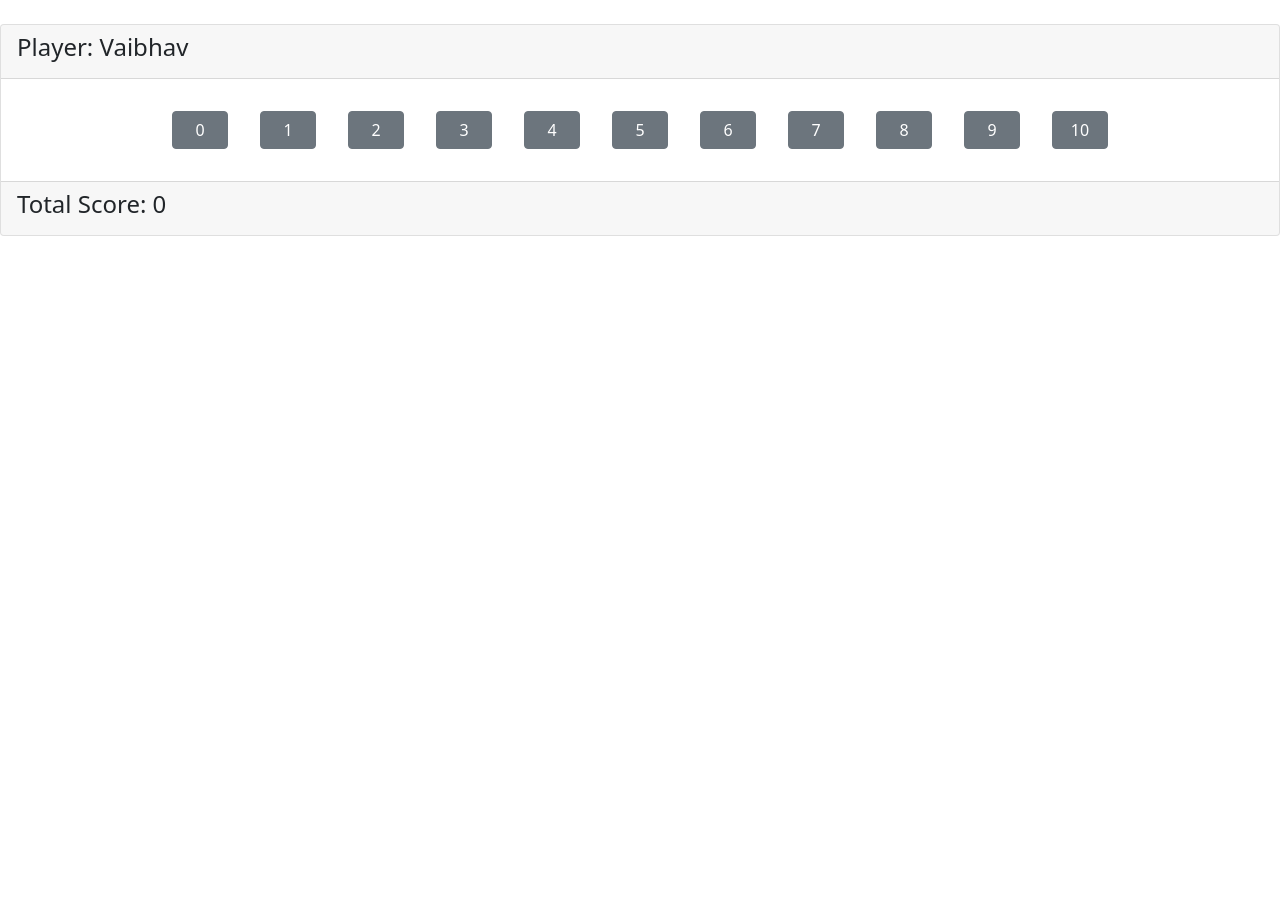
Test: GameCard › should NOT show the button 7 if 8 was pressed on first click
Click the button with test id "Vaibhav8" at coordinates (904, 130), box [876, 111, 932, 149]
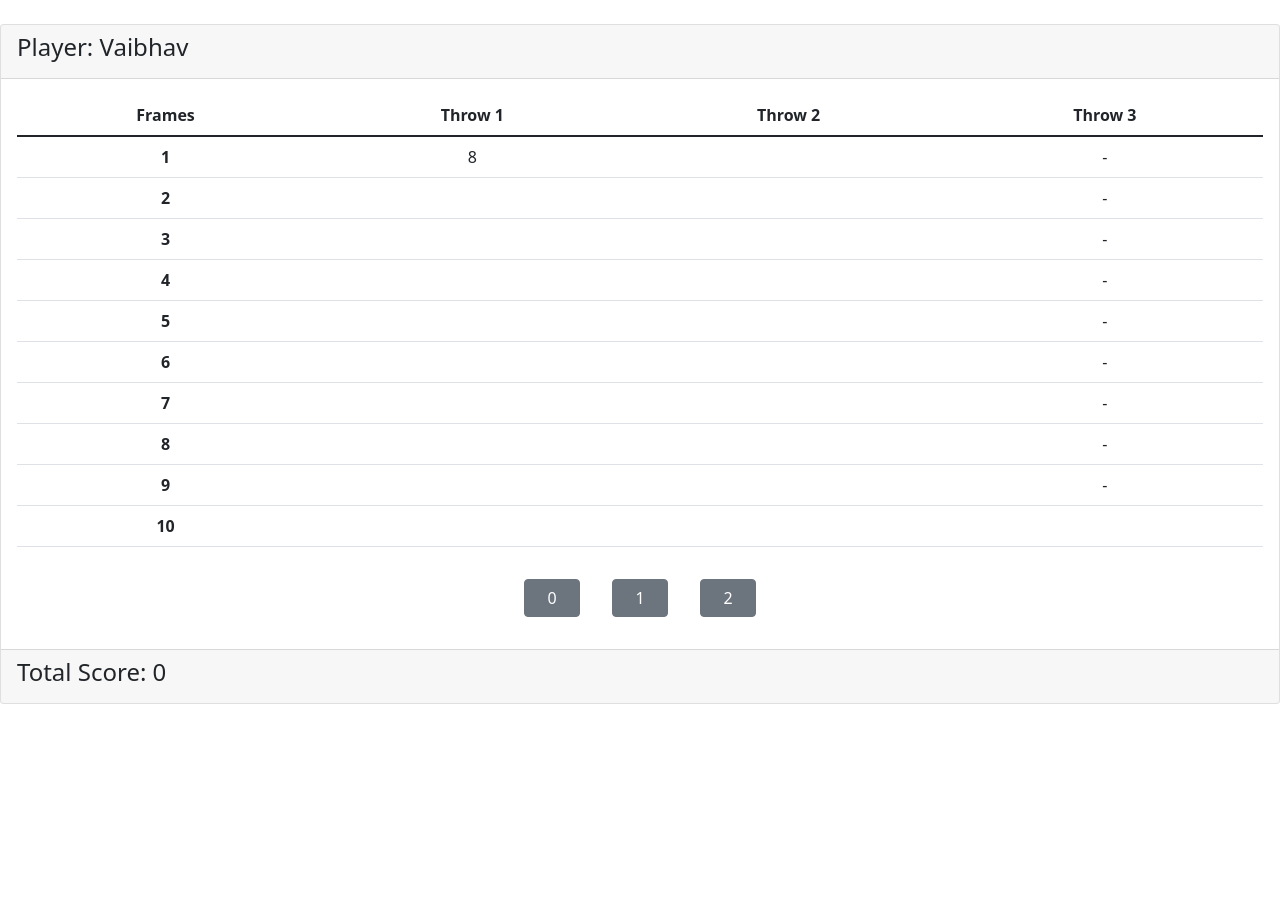
Expected: the button with test id "Vaibhav7" is gone
